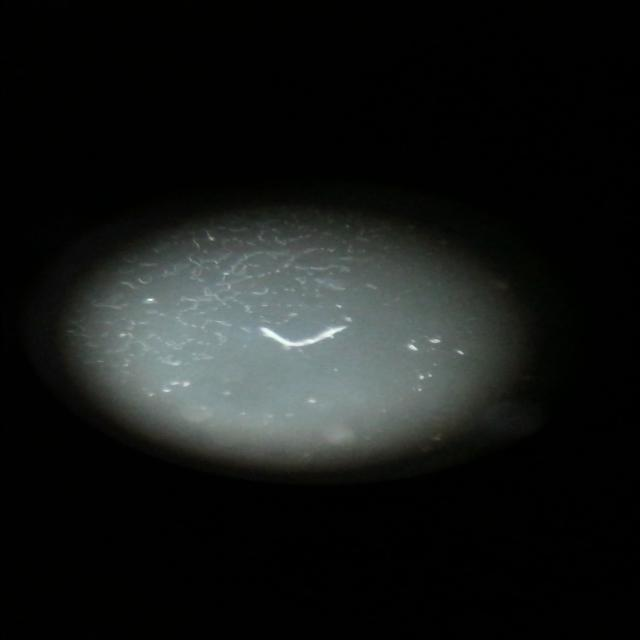psudo-nitzschia: (248, 320, 356, 350)
